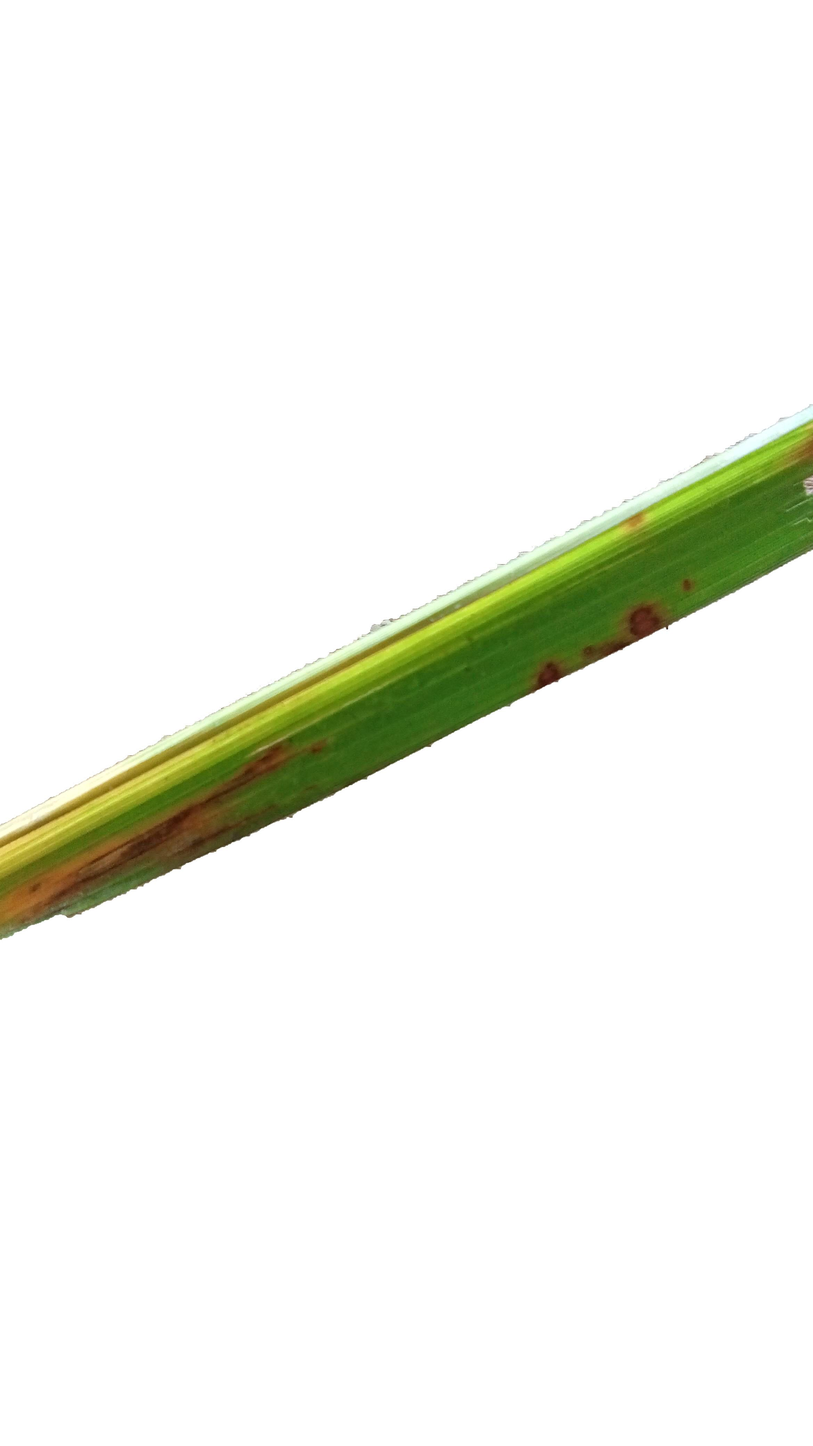Rice blast: (0, 709, 352, 938), (515, 593, 687, 691)
